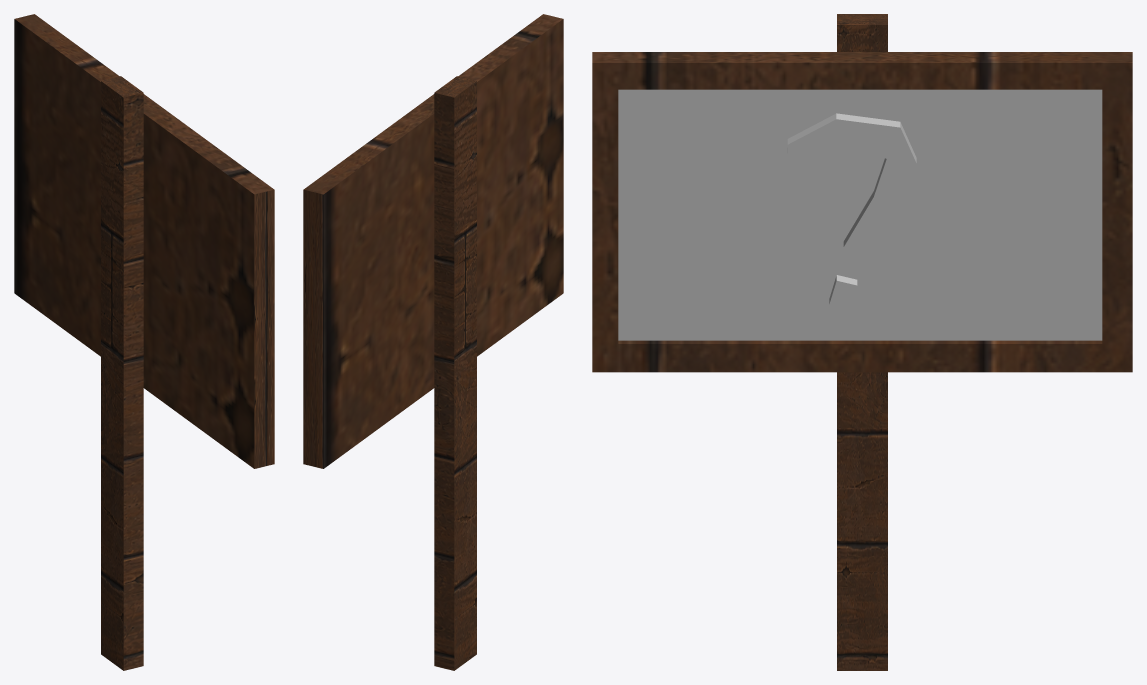
File: Wood_Sign.fbx
The picture shows the model from 3 angles, left to right: view 1: azimuth 30°, elevation 25°; view 2: azimuth 150°, elevation 25°; view 3: azimuth 270°, elevation 25°; orthographic projection. The views are drawn at different scales.
Parts seen in each view (by area): view 1: Wood_Sign; view 2: Wood_Sign; view 3: Wood_Sign.
Boxes of the visible parts, x1,y1,x2,y2 form: Wood_Sign: (14,14,274,670); Wood_Sign: (303,14,563,670); Wood_Sign: (592,14,1132,670).
Bounding box in the file's own units: 8.25 × 96.4 × 73.12.
